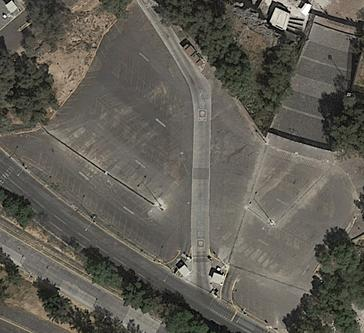parkingspot: (37, 152, 174, 262), (94, 100, 173, 177), (118, 62, 175, 120), (126, 52, 177, 108), (50, 70, 100, 122), (121, 111, 180, 154), (235, 292, 276, 326), (95, 23, 123, 65), (141, 28, 175, 62), (278, 219, 323, 244), (273, 226, 307, 258), (129, 2, 150, 31), (100, 92, 129, 113)
